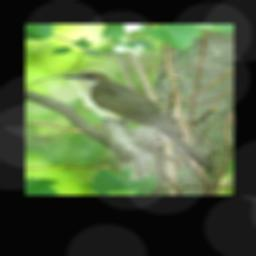Cuckoo: (61, 68, 217, 176)
